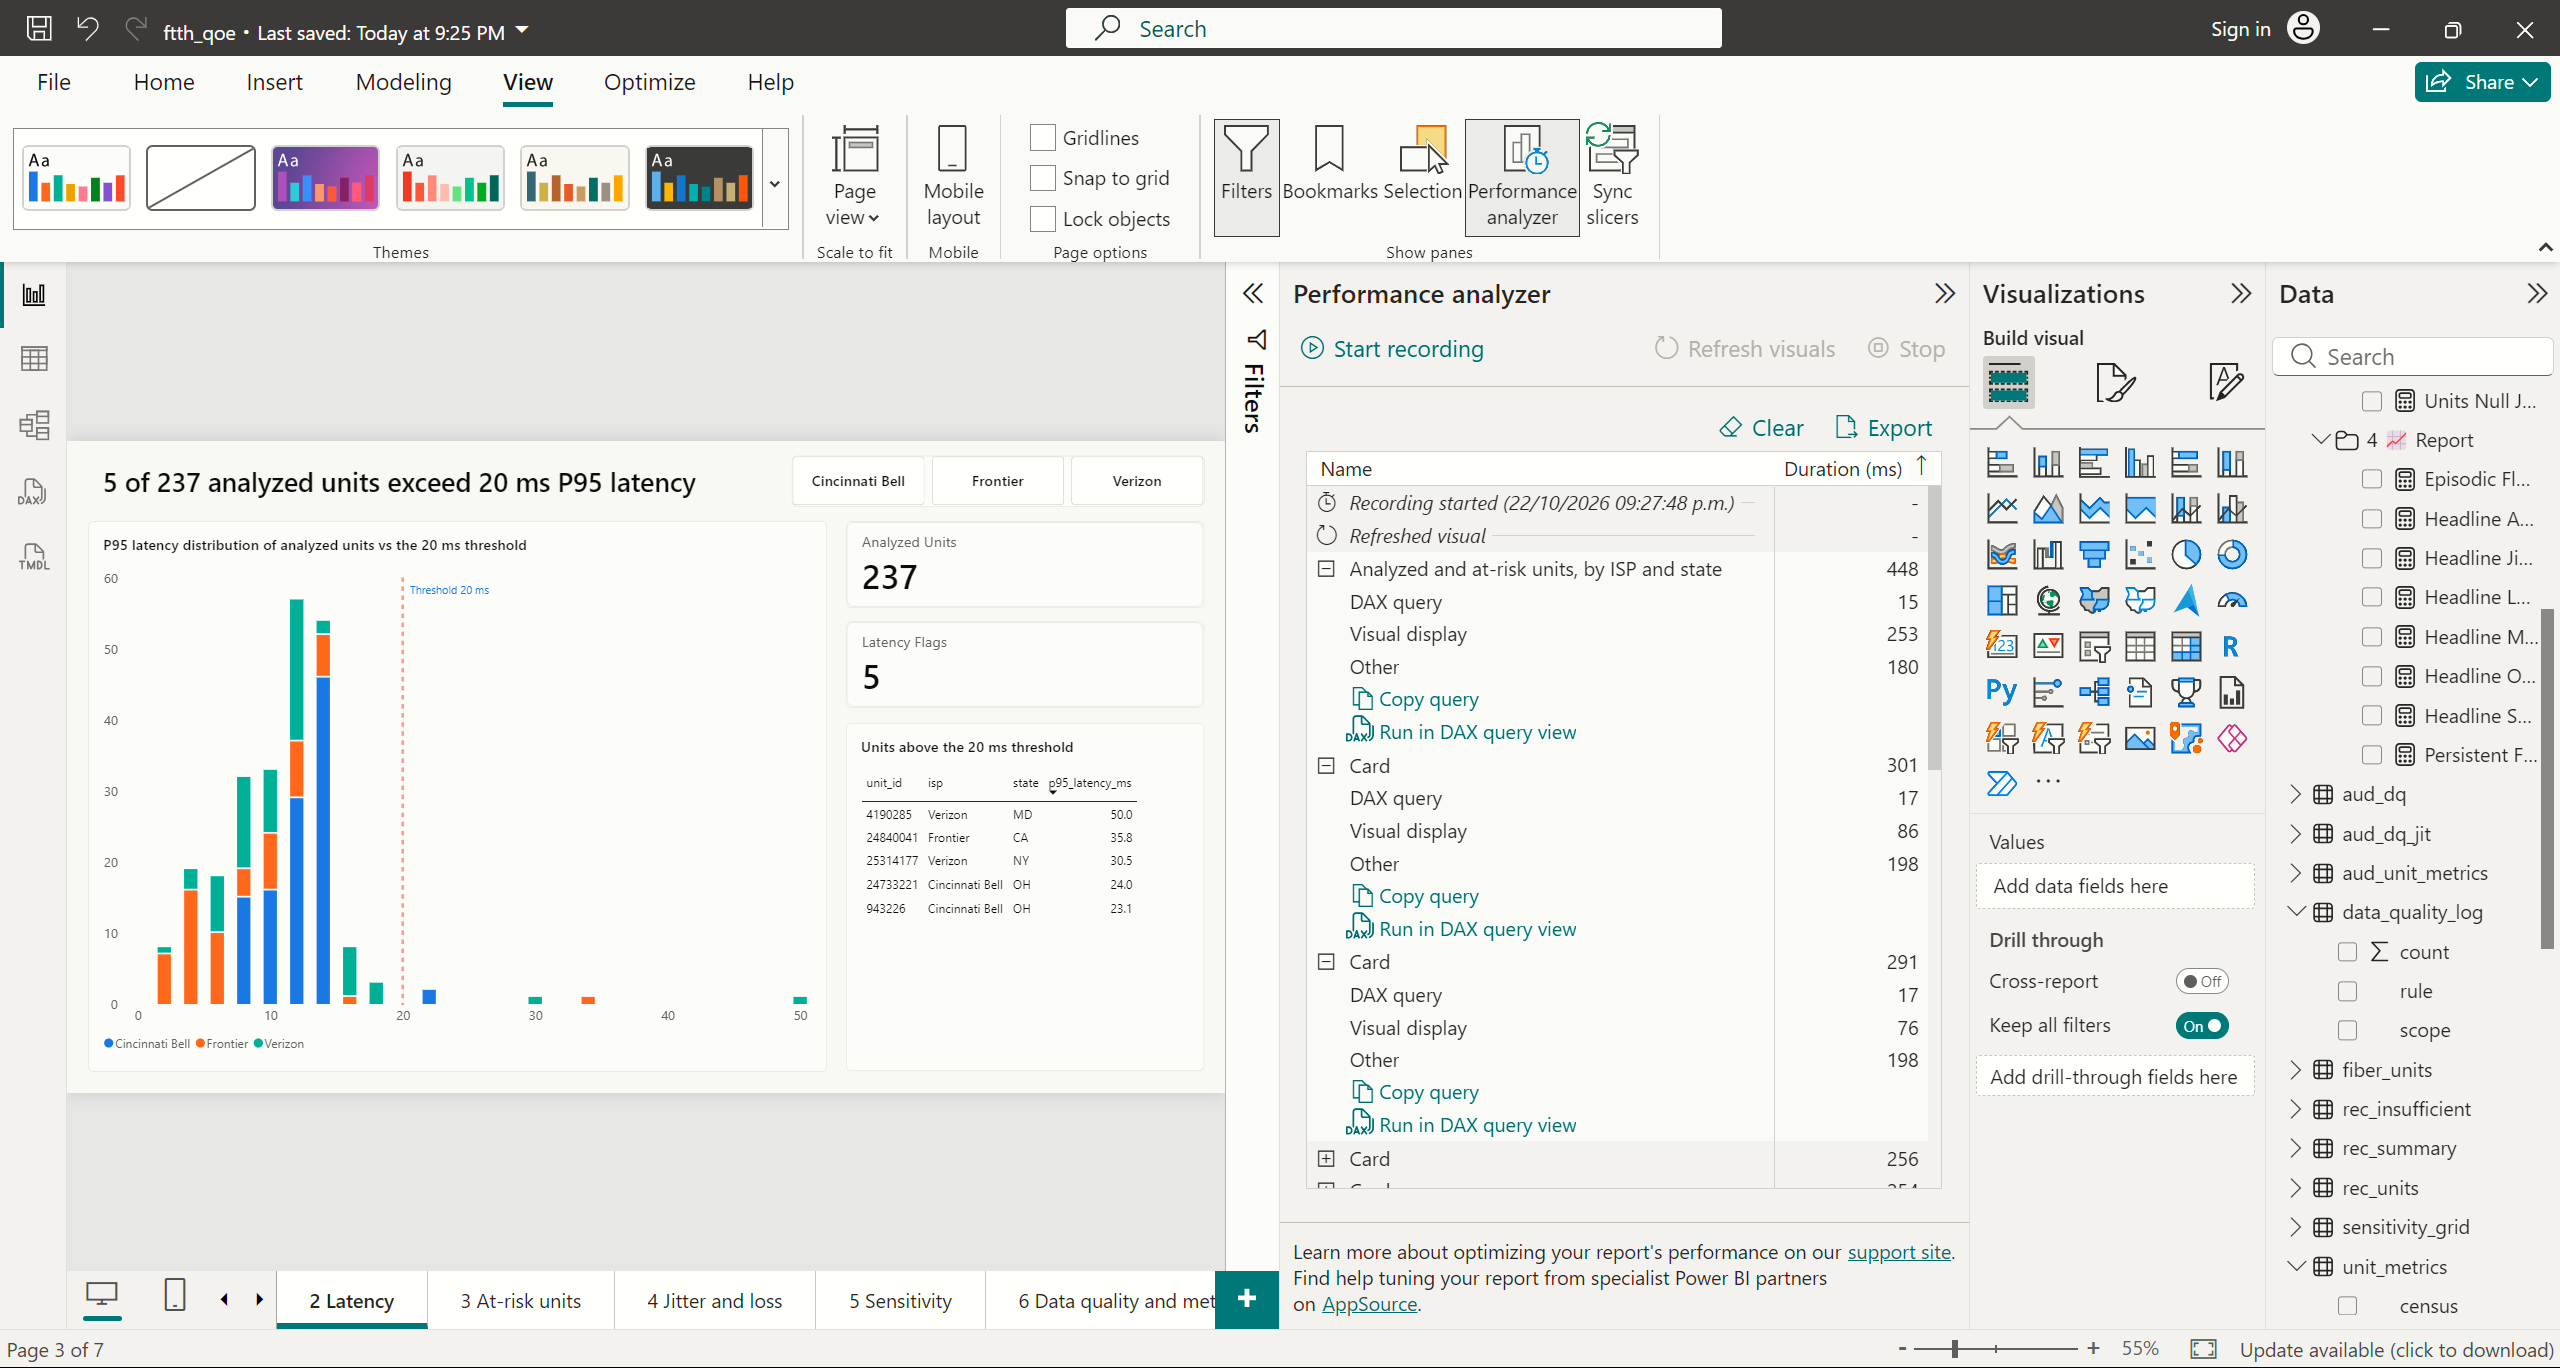

The dashboard page shown, as its layout file describes it:
{"tool":"powerbi","page":{"name":"2 Latency","canvas":[1280,720],"ordinal":2},"visuals":[{"type":"cardVisual","fields":{"Data":["_Measures.Headline Latency"]},"box":[24,16,760,56],"z":0},{"type":"advancedSlicerVisual","fields":{"Values":["unit_metrics.isp"]},"box":[800,16,456,56],"z":1000},{"type":"columnChart","title":"P95 latency distribution of analyzed units vs the 20 ms threshold","fields":{"Category":["unit_metrics.p95_latency_ms (bins)"],"Series":["unit_metrics.isp"],"Y":["_Measures.Analyzed Units"]},"box":[24,88,816,608],"z":2000},{"type":"cardVisual","fields":{"Data":["_Measures.Analyzed Units"]},"box":[860,88,396,96],"z":3000},{"type":"cardVisual","fields":{"Data":["_Measures.Latency Flags"]},"box":[860,200,396,96],"z":4000},{"type":"tableEx","title":"Units above the 20 ms threshold","fields":{"Values":["unit_metrics.unit_id","unit_metrics.ISP -> State.isp","unit_metrics.state","unit_metrics.p95_latency_ms"]},"box":[860,312,396,384],"z":5000}]}

Visuals, with their boxes on the page's 1280x720 design canvas (x1, y1, x2, y2). These are canvas units, not pixel positions in the 2560x1368 screenshot, which may show the page scaled, cropped or inside an application window:
cardVisual - _Measures.Headline Latency: (24, 16, 784, 72)
advancedSlicerVisual - unit_metrics.isp: (800, 16, 1256, 72)
"P95 latency distribution of analyzed units vs the 20 ms threshold" columnChart: (24, 88, 840, 696)
cardVisual - _Measures.Analyzed Units: (860, 88, 1256, 184)
cardVisual - _Measures.Latency Flags: (860, 200, 1256, 296)
"Units above the 20 ms threshold" tableEx: (860, 312, 1256, 696)
